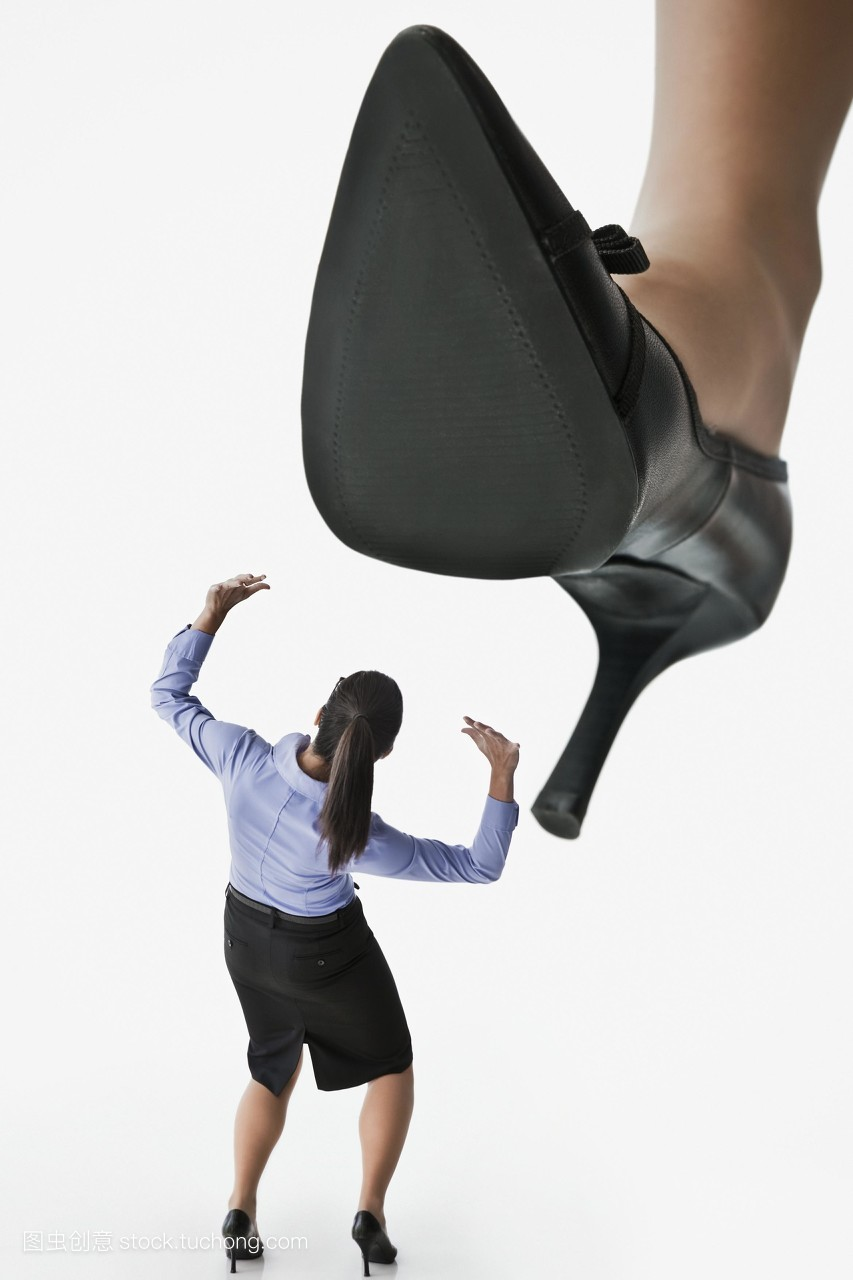handsup: (141, 545, 549, 1280)
